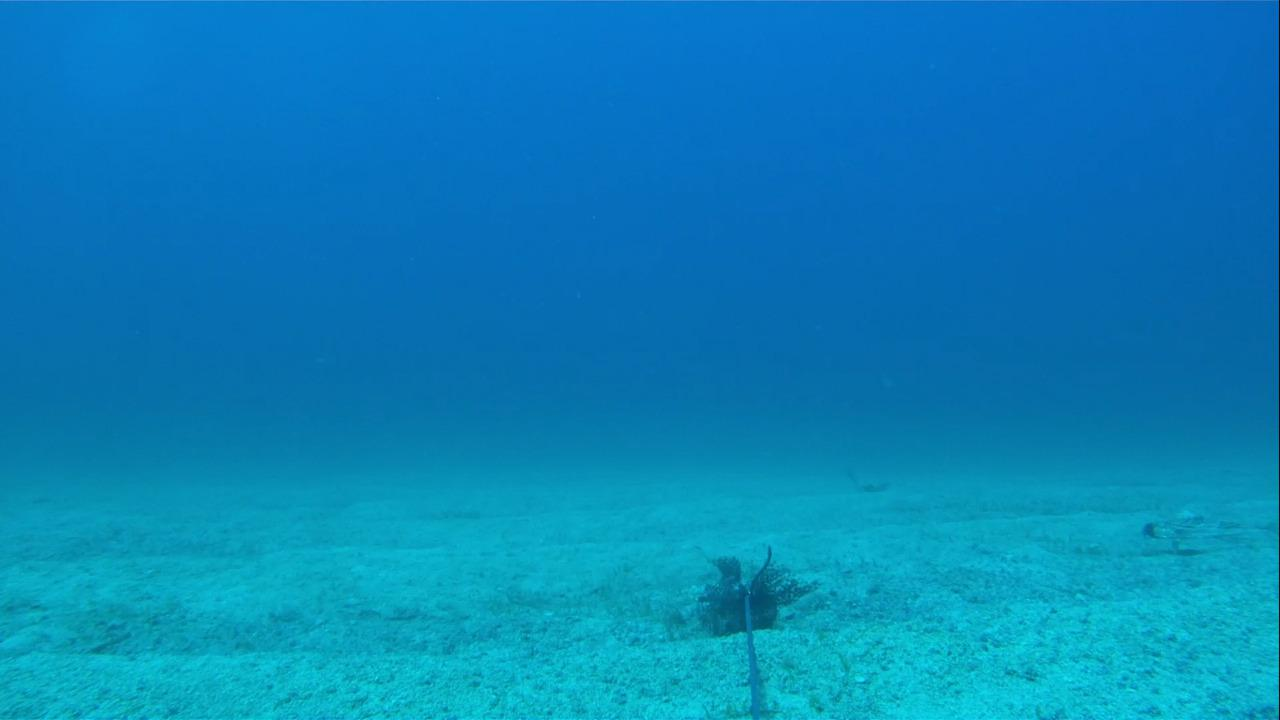dactylopterus: (1131, 506, 1274, 560)
